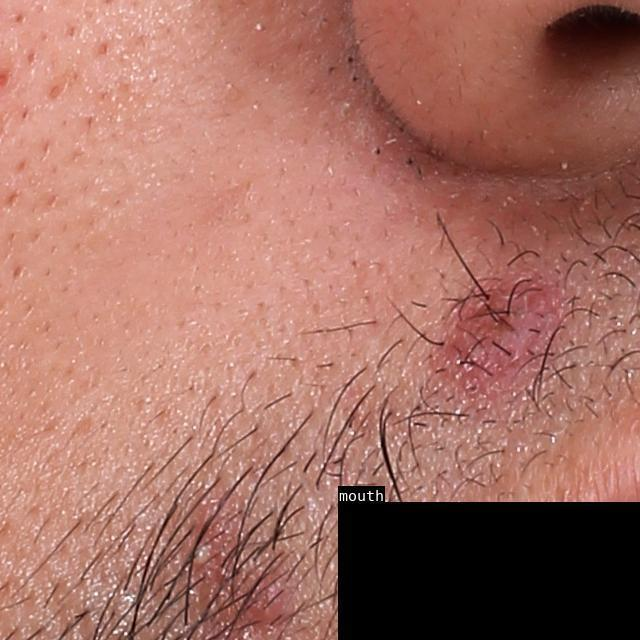papule: (427, 259, 575, 409), (243, 567, 291, 628)
pustule: (170, 509, 229, 602)
